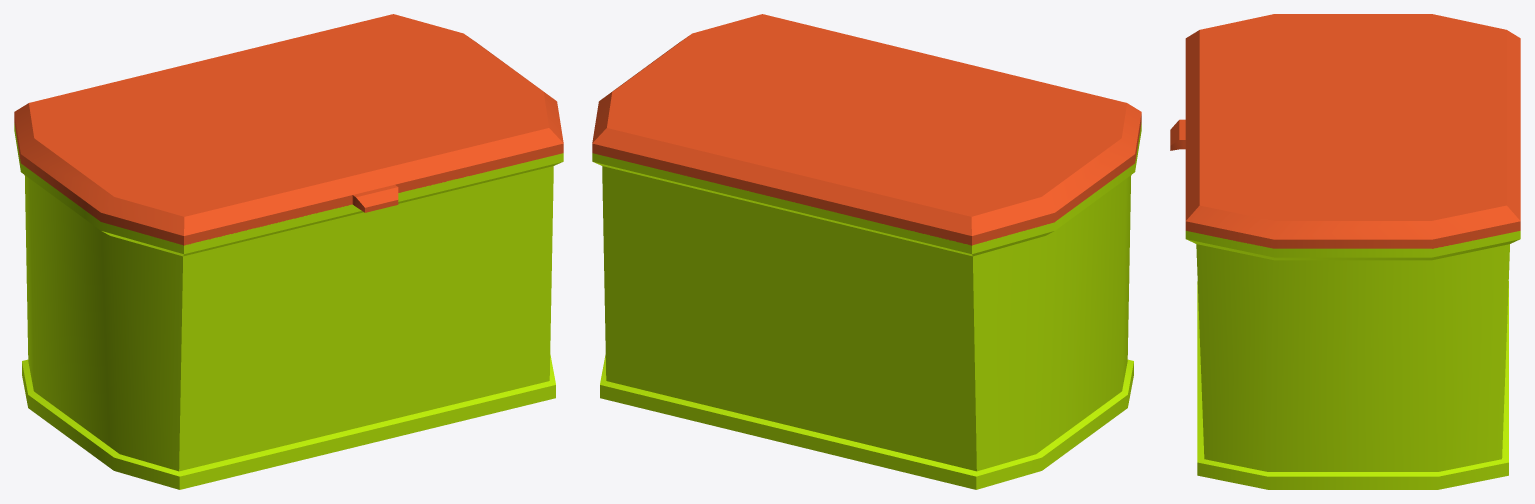
The model's file is CompostGrande_03.fbx.
3 views of the same model, side by side, from view 1: azimuth 30°, elevation 25°; view 2: azimuth 150°, elevation 25°; view 3: azimuth 270°, elevation 25° (orthographic).
Visible parts, largest first — view 1: CompostGrande_03; view 2: CompostGrande_03; view 3: CompostGrande_03.
Boxes of the visible parts, x1=… form: CompostGrande_03: x1=14, y1=14, x2=563, y2=489; CompostGrande_03: x1=592, y1=14, x2=1141, y2=489; CompostGrande_03: x1=1170, y1=14, x2=1520, y2=489.
Size of the model in its own units: 466 by 264 by 314.
